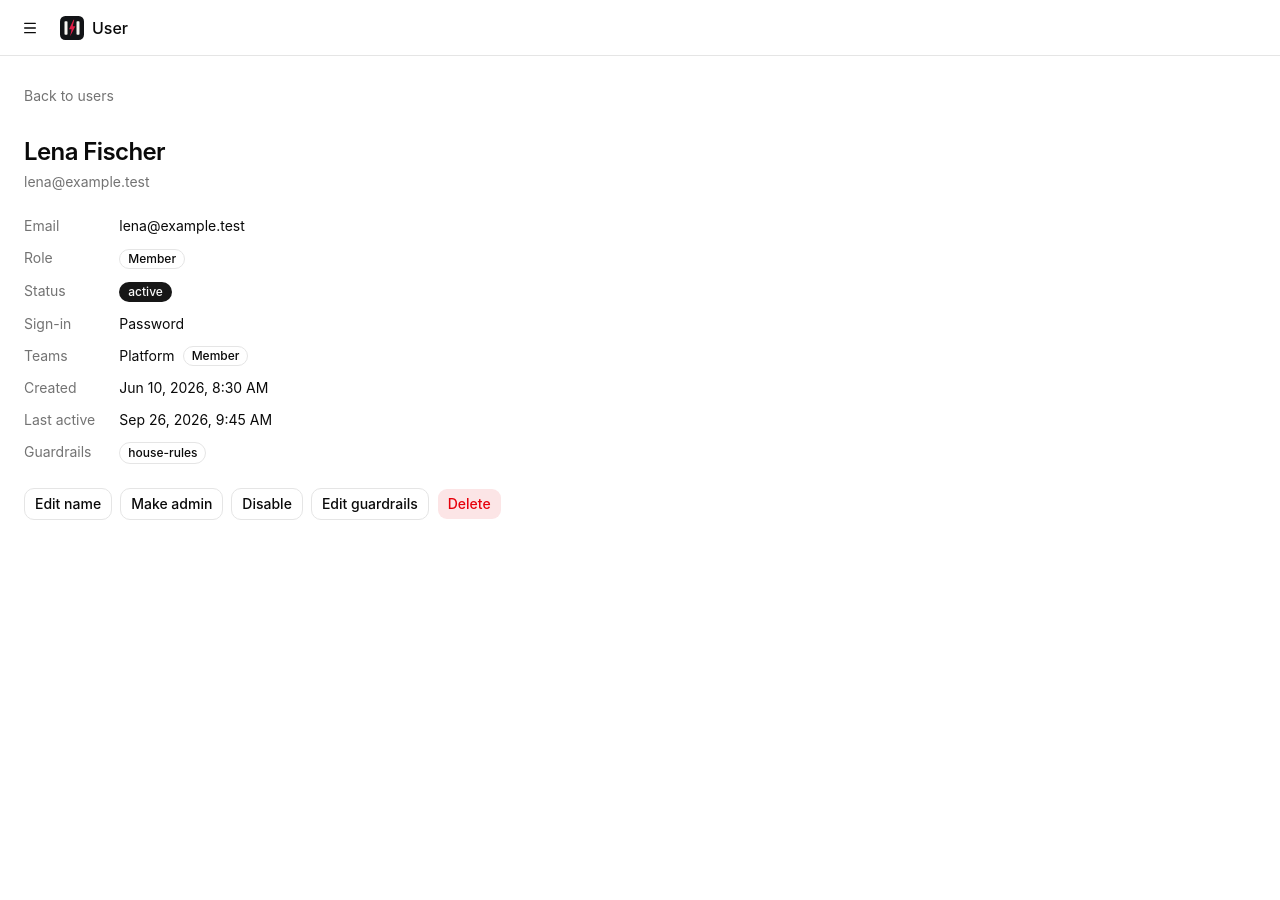
Scenario: the user page › the gateway refusing is said, not toasted
The image size is (1280, 900).
Click the button "Edit guardrails" at point(370, 504), box [311, 488, 429, 520]
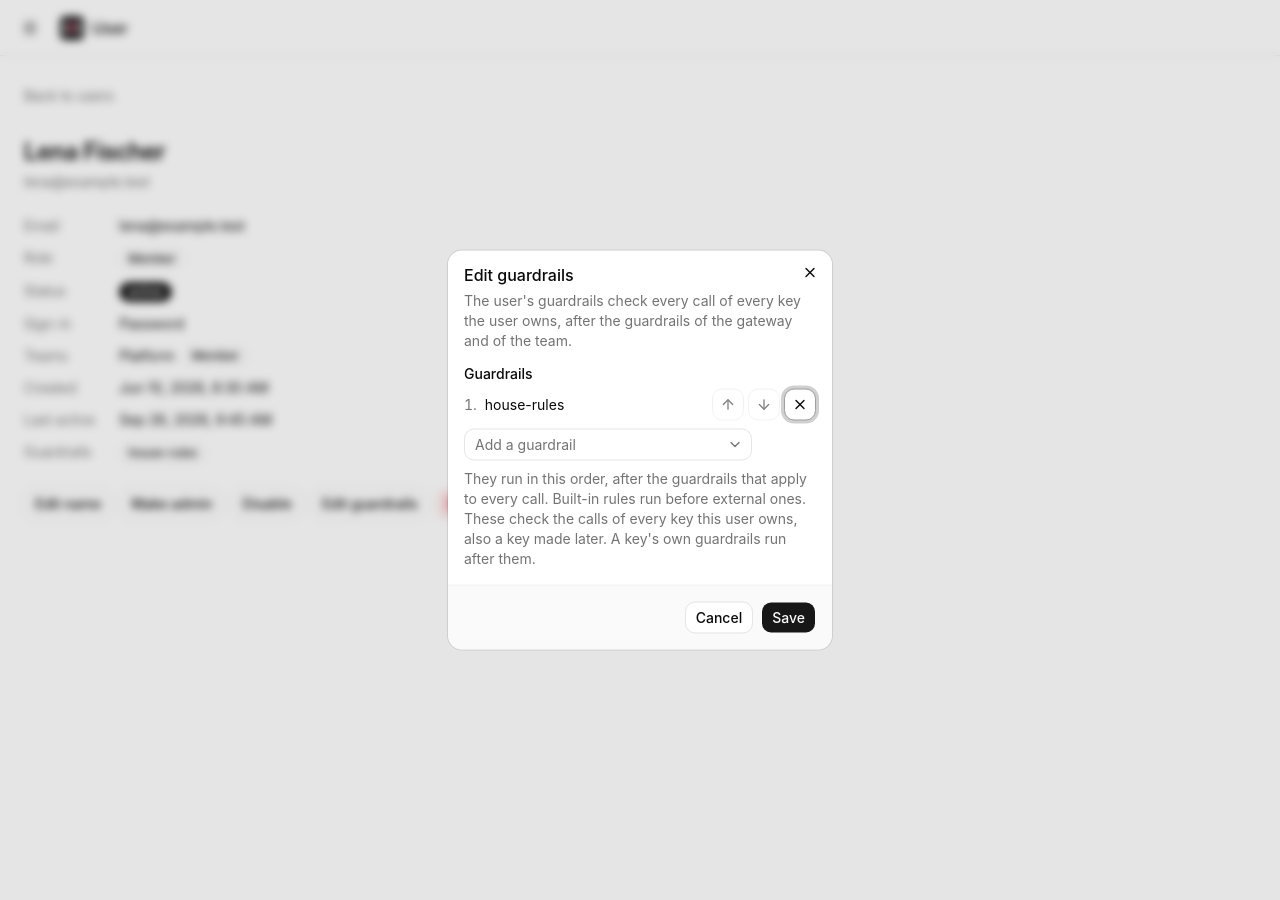
Click the button "Save" at point(789, 618), box [761, 602, 816, 634]
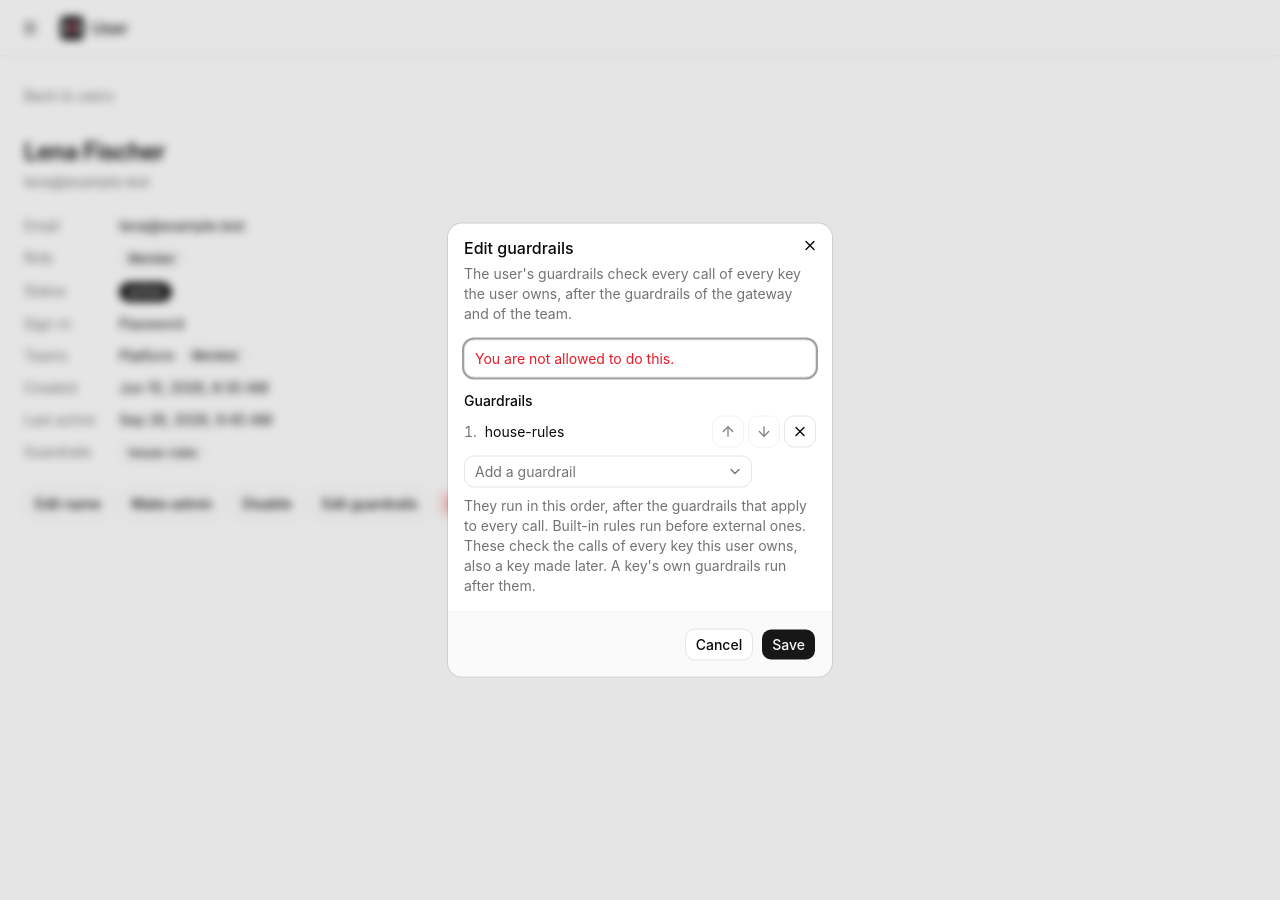
Result: the message "You are not allowed to do this." is shown at [464, 340, 816, 378]
